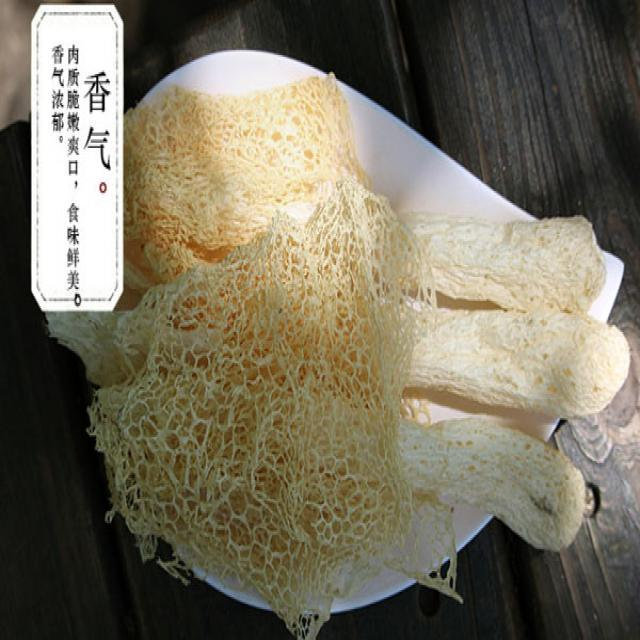Dictyophora indusiate: (92, 378, 582, 636), (101, 76, 608, 310), (103, 280, 631, 429)
